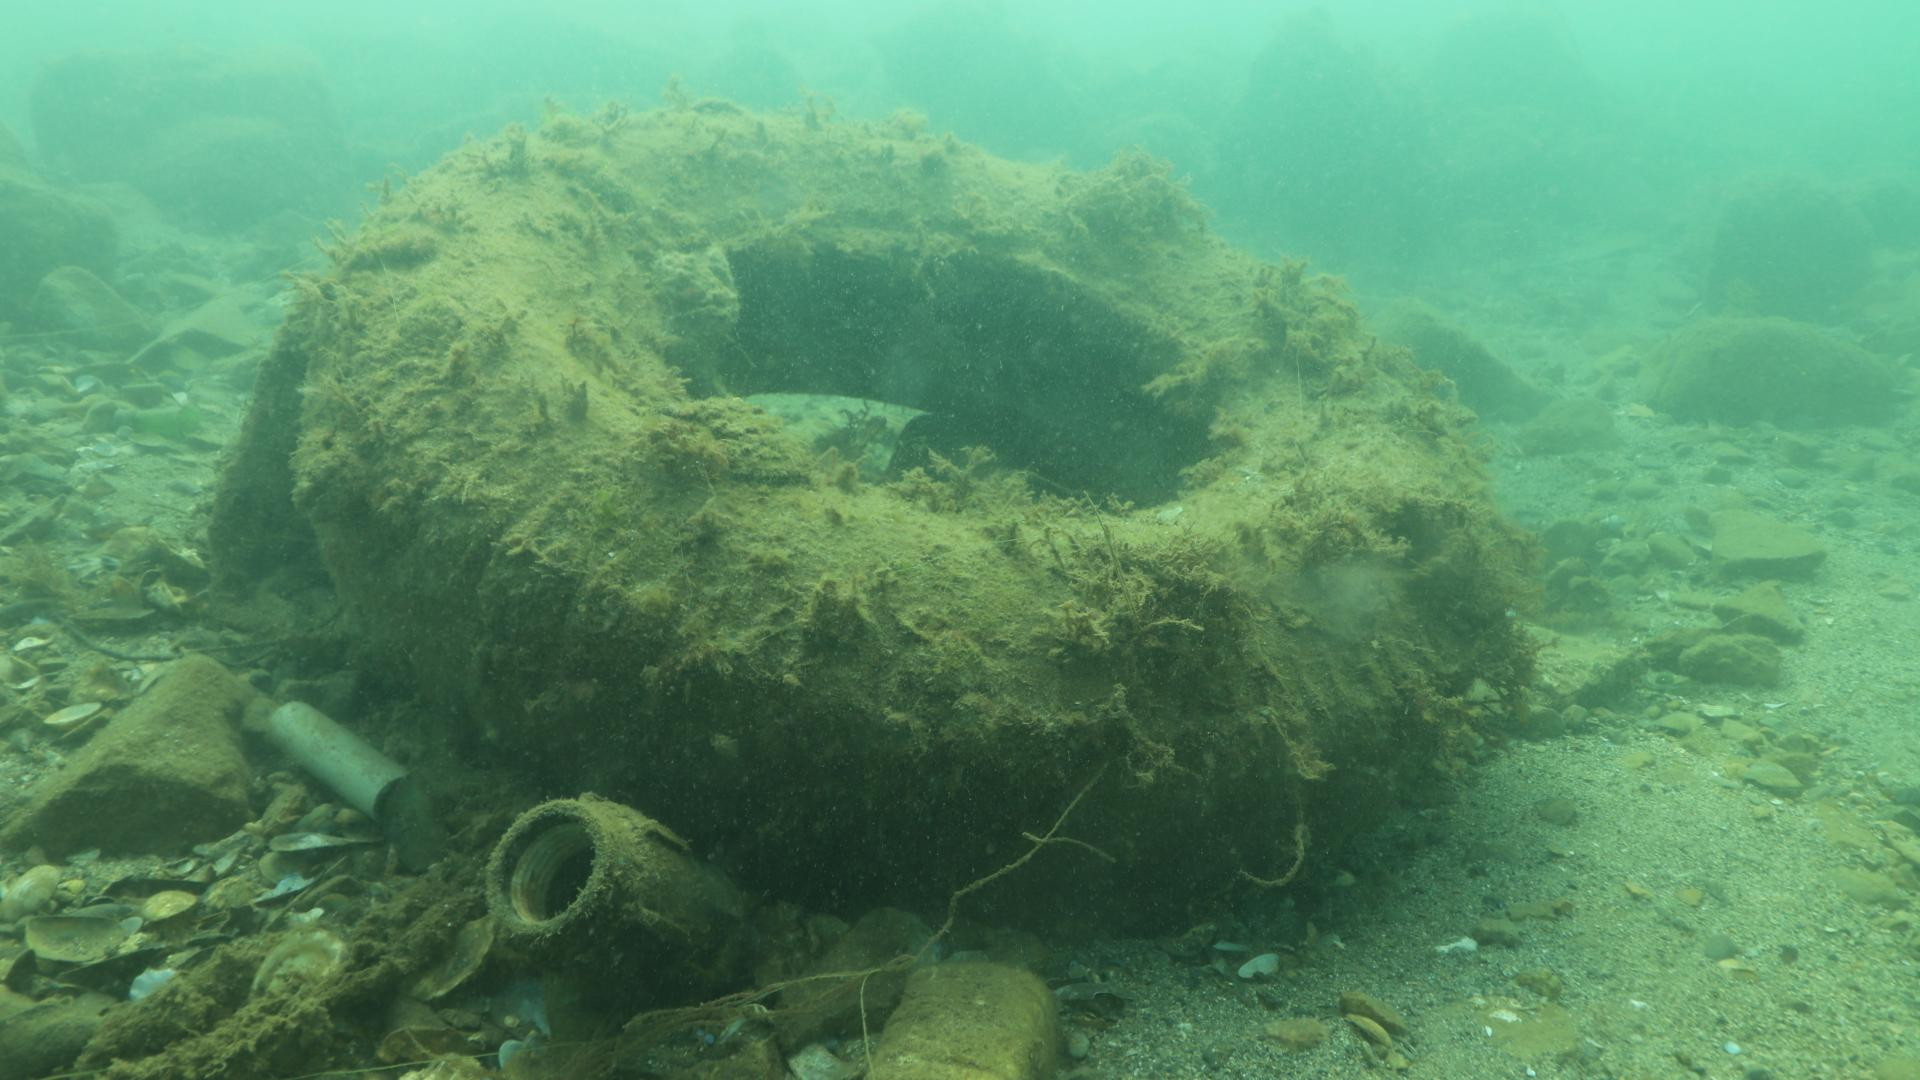tire: (303, 109, 1497, 927)
